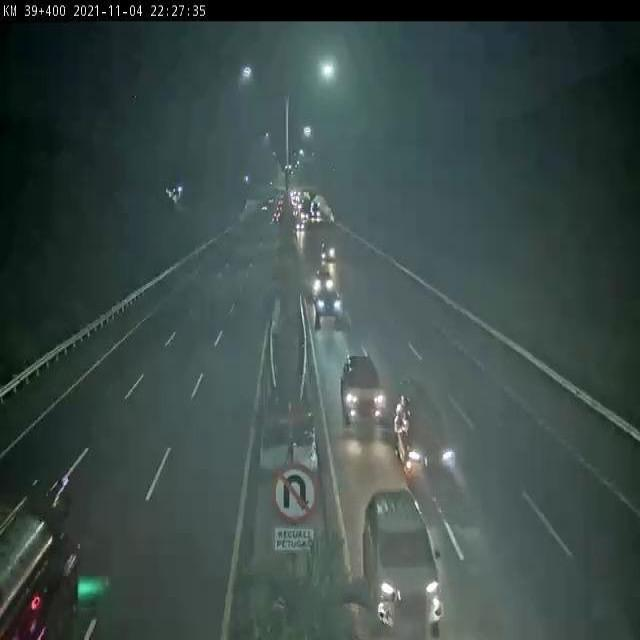car: (360, 485, 448, 631), (395, 383, 456, 484), (341, 353, 386, 424), (315, 289, 341, 323)
